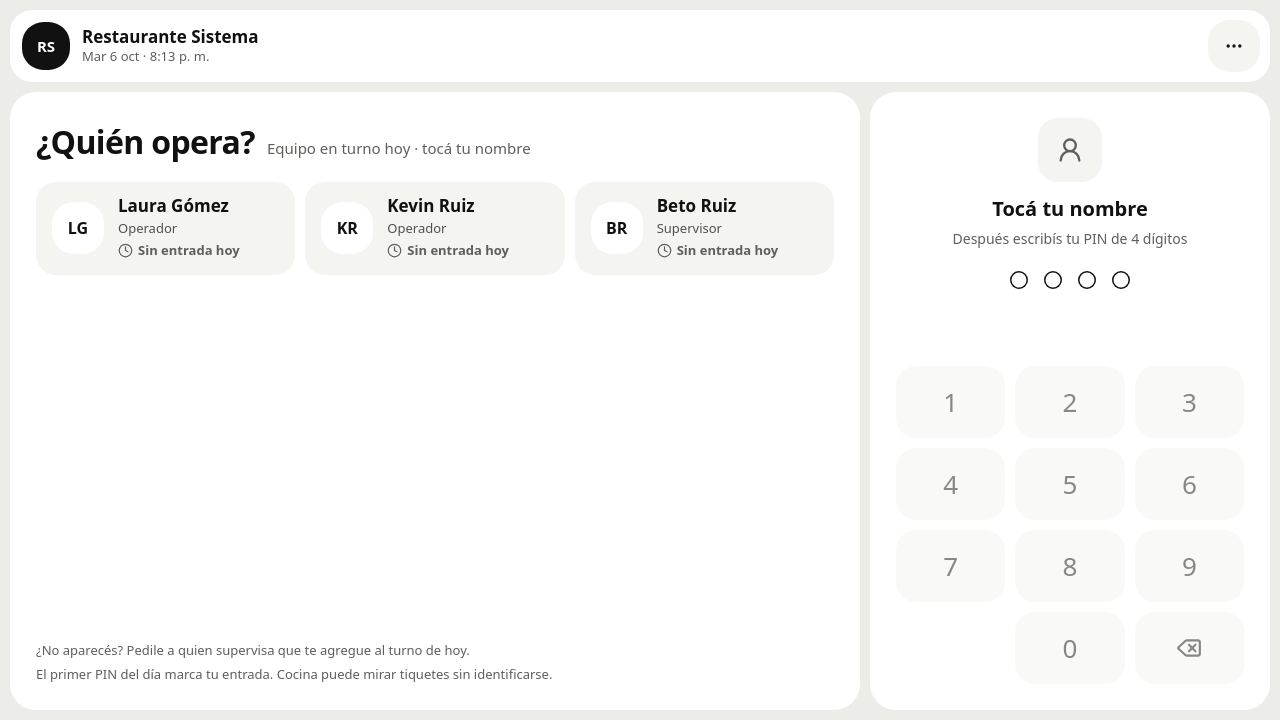
Test: DeviceIdentifyPage — la grilla del handoff › el mensaje de PIN incorrecto llega del servidor y se muestra tal cual
Click the radio button with aria-label "Laura Gómez, Operador" at point(166, 228), box [36,182,295,274]
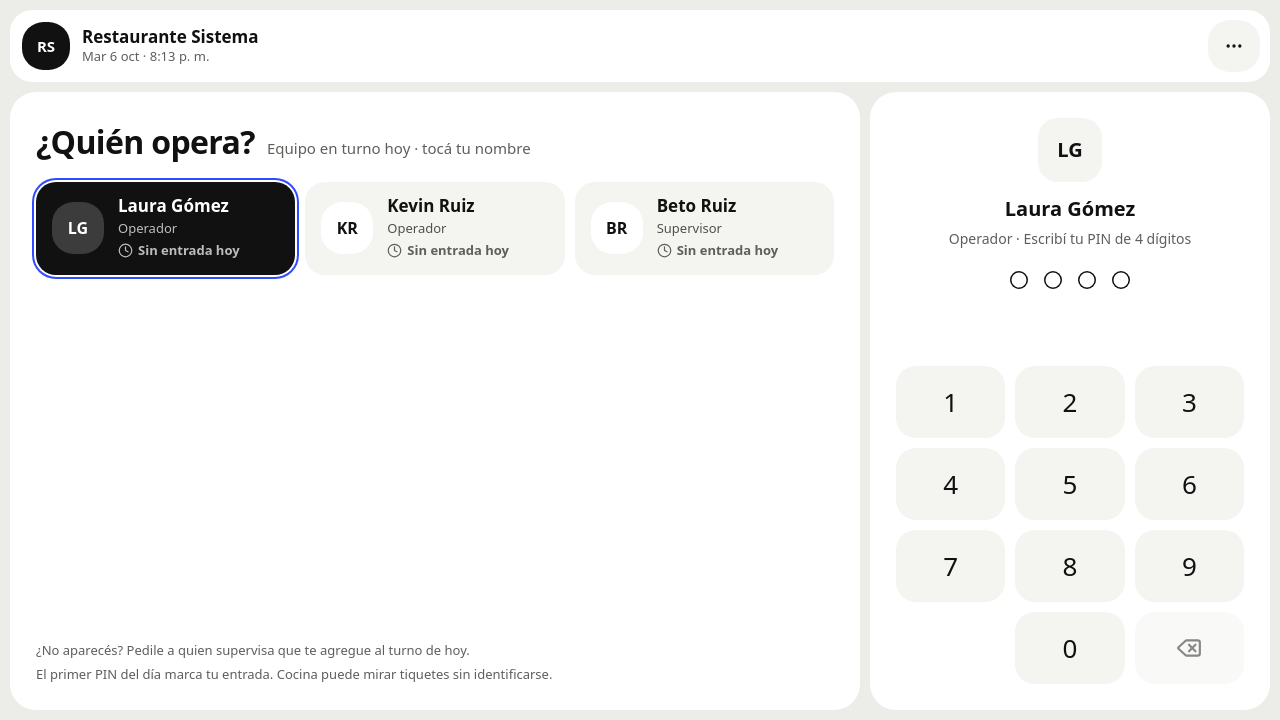
Type keys "0000"
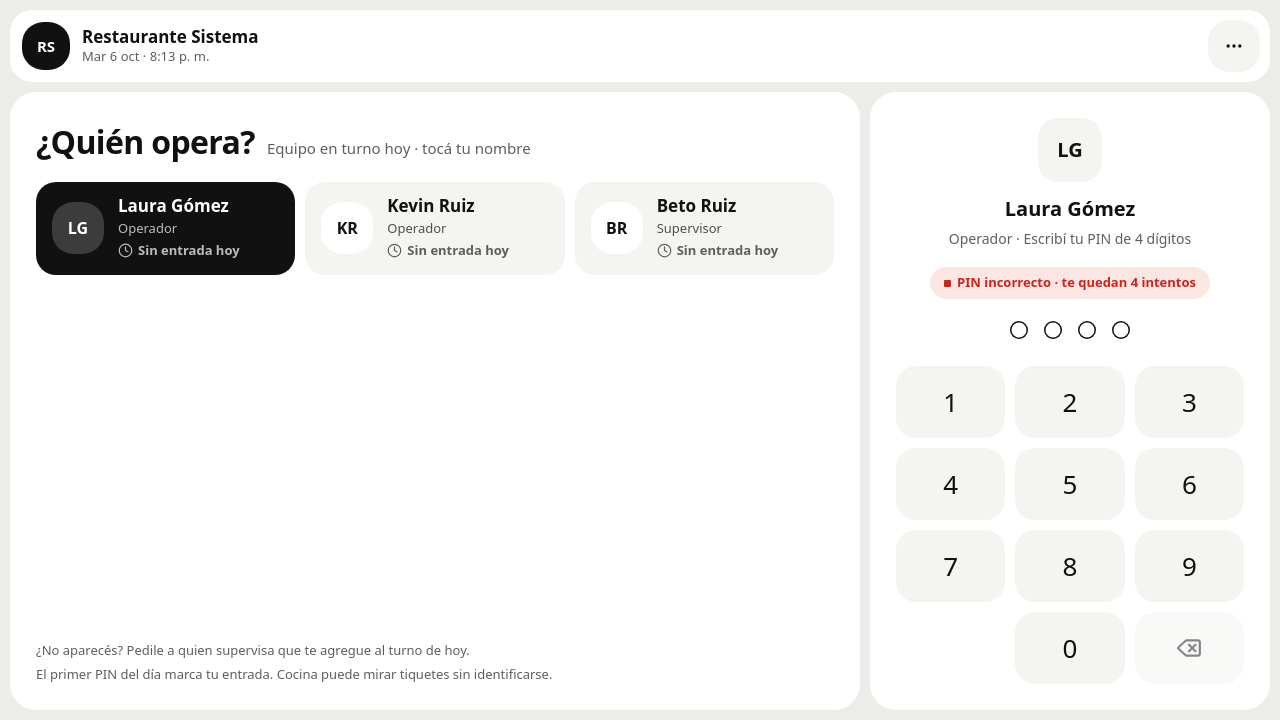
Now the message reads "PIN incorrecto · te quedan 4 intentos", box [957,273,1196,291]
